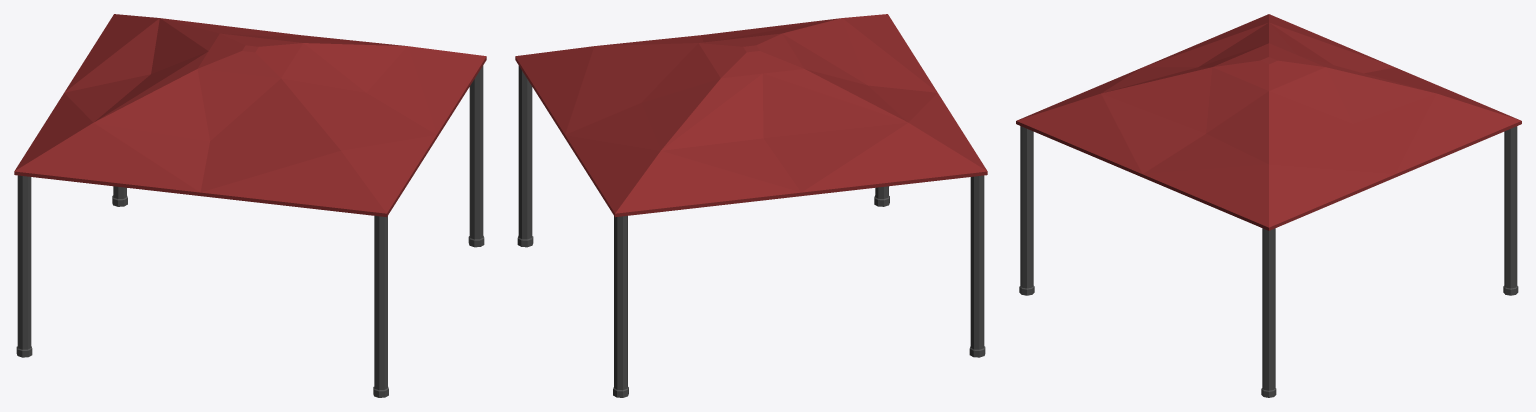
File: TT_tent_Red.fbx
3 views of the same model, side by side, from view 1: azimuth 30°, elevation 25°; view 2: azimuth 150°, elevation 25°; view 3: azimuth 270°, elevation 25° (orthographic). The views are drawn at different scales.
Visible parts, largest first — view 1: Indian_tent_Red; view 2: Indian_tent_Red; view 3: Indian_tent_Red.
Boxes of the visible parts, x1=… form: Indian_tent_Red: x1=14, y1=14, x2=486, y2=397; Indian_tent_Red: x1=515, y1=14, x2=987, y2=397; Indian_tent_Red: x1=1016, y1=14, x2=1521, y2=397.
Size of the model in its own units: 80.08 by 40.53 by 80.08.
